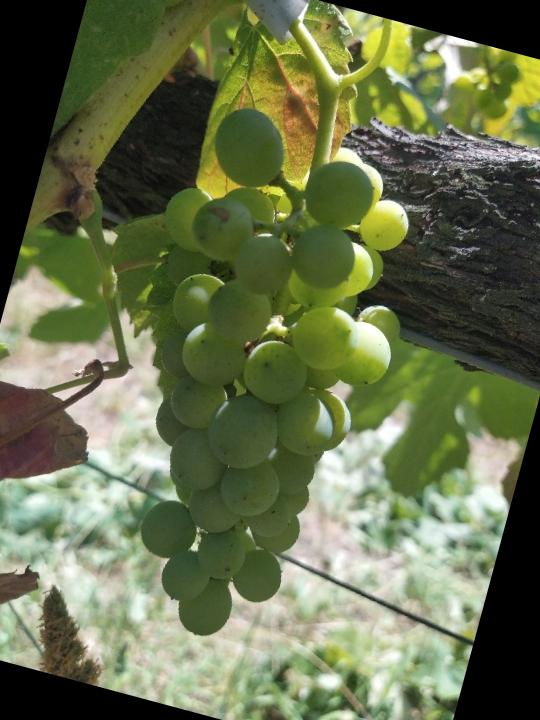grape: (60, 95, 451, 669)
